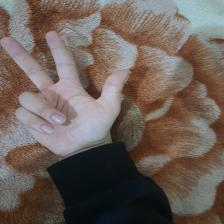three: (0, 31, 132, 149)
